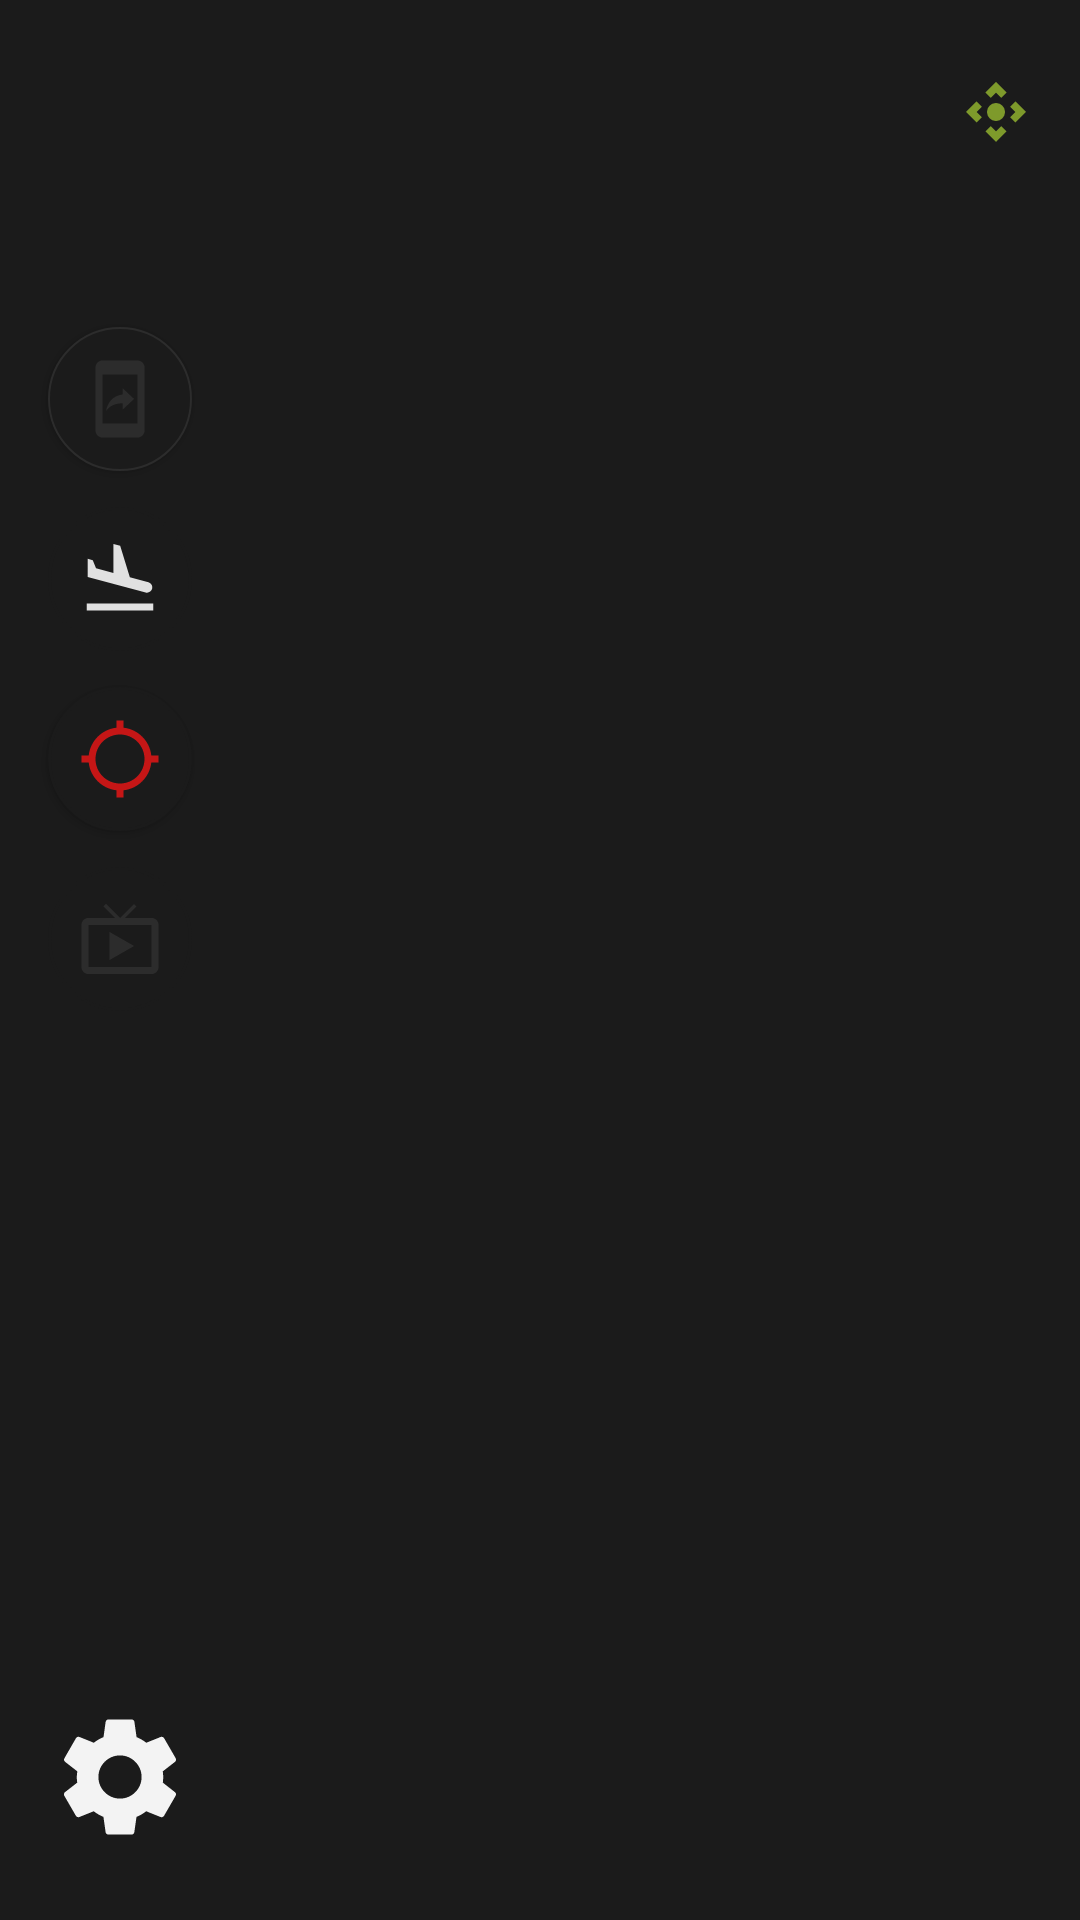

Where to tap for icons on this 1080 x 1920 app screen, as (x=x, y=y):
control camera: (x=996, y=112)
settings: (x=120, y=1777)
